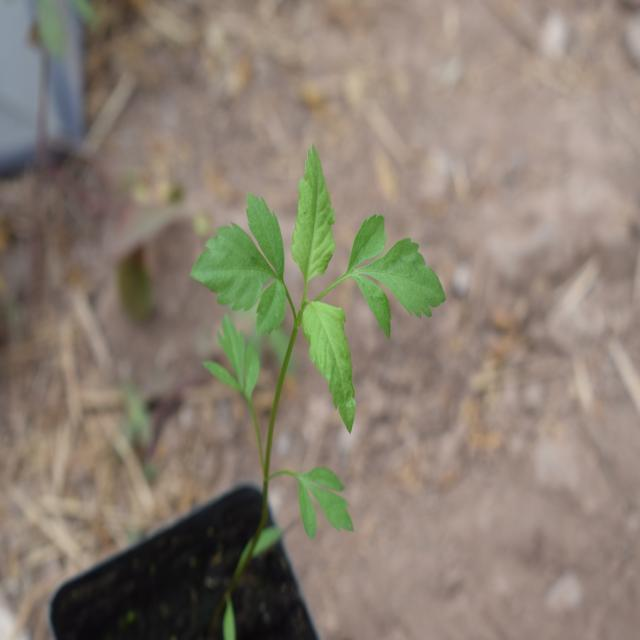Bidens pilosa: (180, 152, 449, 556)
